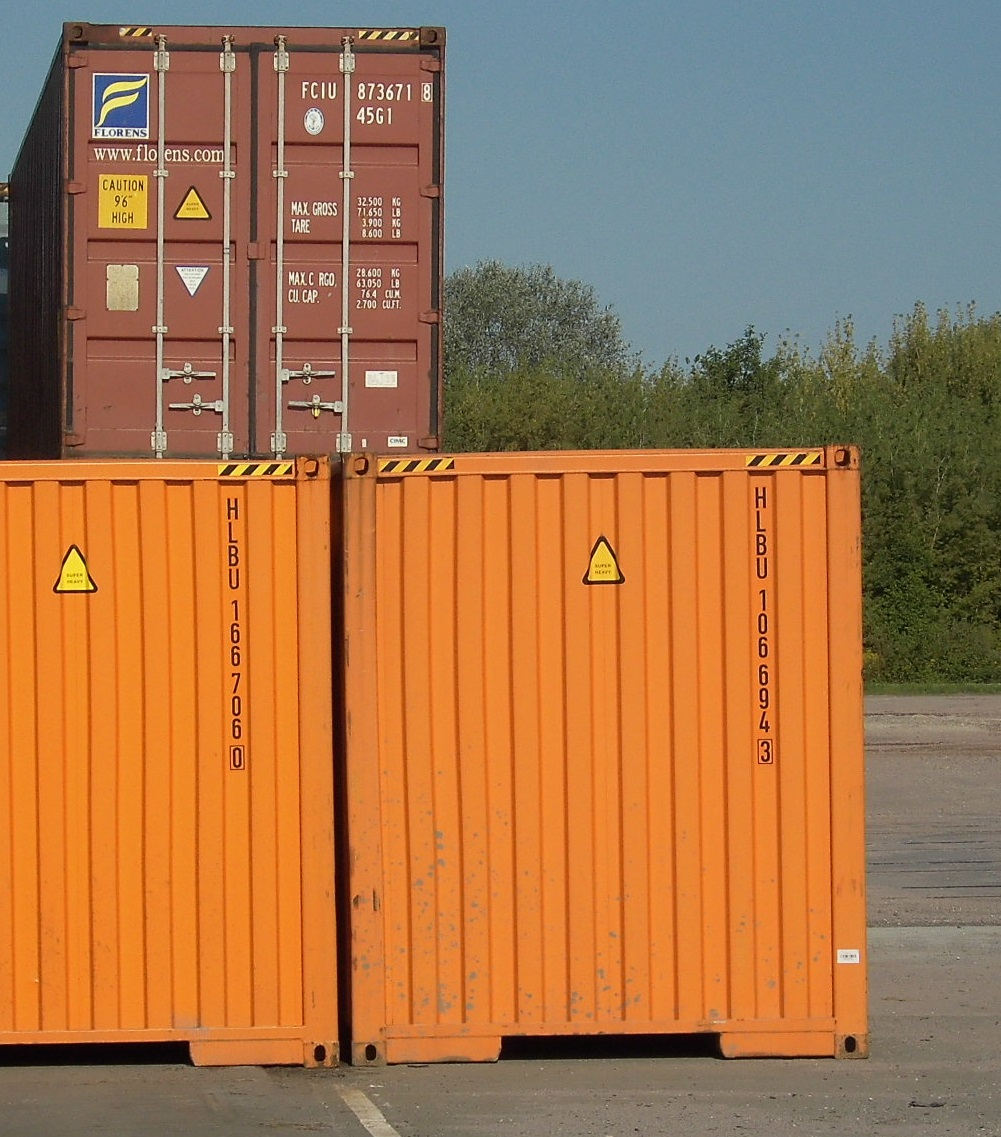container_door: (50, 20, 446, 453)
container_no_door: (345, 450, 868, 1066), (4, 453, 335, 1067)
